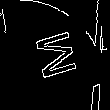M_W: (30, 26, 80, 84)
